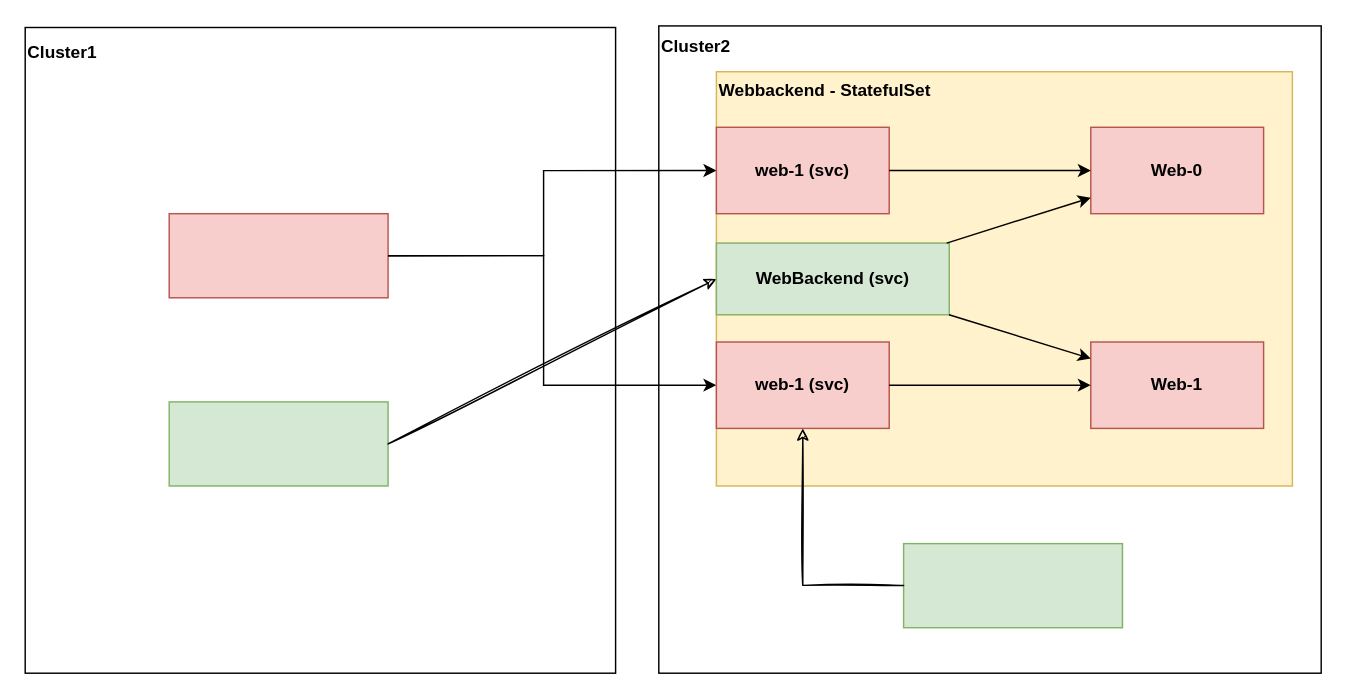
Some shapes in this 1346 by 698 pixel diagram are drawn without their labels. Here are the shapes that lost their labels. From the top down, the centre of each, then its label:
the point at 278,255: WebFront
the point at 278,443: Application (left)
the point at 1012,585: Application (right)
